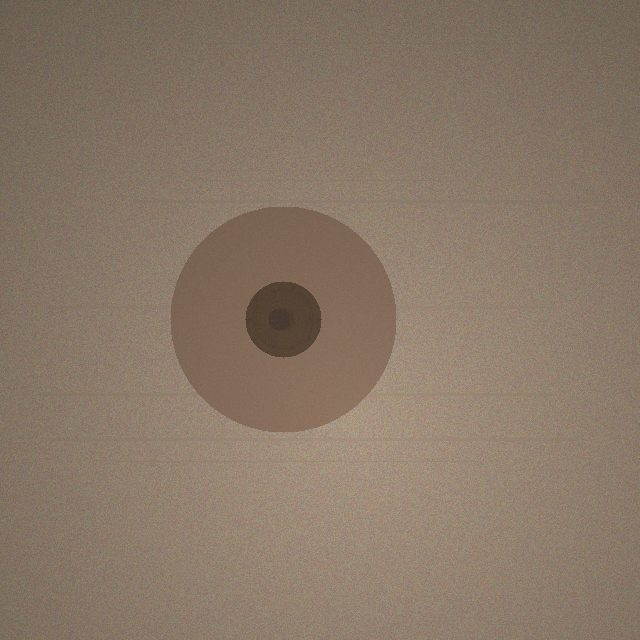cold_weld: (170, 206, 396, 432)
